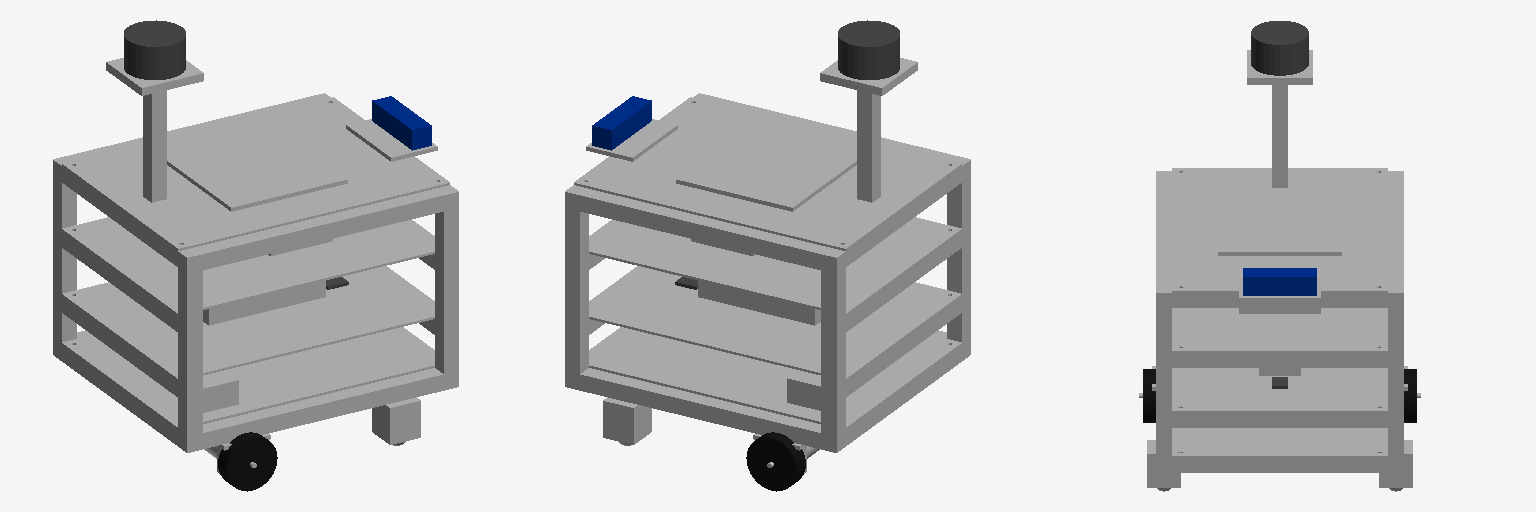
--- What the picture shows (computed from the rendered views, not written in the file) ---
The picture shows the robot from 3 angles, left to right: view 1: azimuth 30°, elevation 25°; view 2: azimuth 150°, elevation 25°; view 3: azimuth 270°, elevation 25°; orthographic projection.
Robot: my_mobile_robot — 7 links, 6 joints (2 continuous, 4 fixed); root link base_footprint; default pose: every joint at zero.
Links seen in each view (by area): view 1: base_link, lidar_link, right_wheel, camera_link; view 2: base_link, lidar_link, left_wheel, camera_link; view 3: base_link, lidar_link, camera_link, left_wheel, right_wheel.
Link boxes in pixels (x1,y1,x2,y2): base_link: (53,58,458,473); lidar_link: (124,20,185,79); right_wheel: (218,432,277,491); camera_link: (372,96,431,150); base_link: (565,58,970,473); lidar_link: (838,20,899,79); left_wheel: (746,432,805,491); camera_link: (592,96,651,150); base_link: (1139,50,1420,491); lidar_link: (1251,21,1308,75); camera_link: (1243,268,1316,295); left_wheel: (1404,369,1416,422); right_wheel: (1143,369,1155,422).
Bounding box of the posed robot: 0.38 × 0.34 × 0.5025 m (x, y, z).
Meshes: 1 distinct files referenced, 1 mesh visuals loaded (1 binary STL).

The robot description file, URDF, robot "my_mobile_robot":
<?xml version="1.0"?>
<!--
  좌표계 규약:
    X+ = 전방 (Forward)
    Y+ = 왼쪽 (Left) 
    Z+ = 위쪽 (Up)
  
    원점: 프레임 하판 바닥 중앙 (지면에서 57.5mm 위)
-->

<robot name="my_mobile_robot">
  <!-- ===== MATERIALS (색상 정의) ================= -->
  <!--
    URDF에서 색상은 <material> 태그로 정의 → rgba = Red, Green, Blue, Alpha 
  -->
  
  <!-- 알루미늄 프로파일 색상 -->
  <material name="silver">
    <color rgba="0.75 0.75 0.75 1.0"/>
  </material>
  
  <!-- 전자부품, 센서 색상 -->
  <material name="dark_grey">
    <color rgba="0.3 0.3 0.3 1.0"/>
  </material>
  
  <!-- 바퀴, 타이어 색상 -->
  <material name="black">
    <color rgba="0.1 0.1 0.1 1.0"/>
  </material>
  
  <!-- RealSense 카메라 색상 -->
  <material name="blue">
    <color rgba="0.0 0.2 0.6 1.0"/>
  </material>



  <!-- ===== LINK 1: base_footprint =============== -->
  <!--
    base_footprint: 가상의 Link (물리적 실체 없음!)
      위치: 지면 위, 로봇 중심 바로 아래
        → Nav2는 로봇의 "발자국"을 기준으로 경로를 계획 → 지면과 같은 높이에 있어야 장애물 회피가 정확
        → base_link는 로봇 본체 중심이라 지면보다 위에 있음 → 그래서 지면 높이에 가상 Link를 하나 만들어 둠
  -->
  <link name="base_footprint">
    <!--
      가상 Link이므로 visual, collision, inertial 없음 → 빈 Link는 URDF에서 합법적 → RViz에서는 TF 프레임(축)만 표시
    -->
  </link>



  <!-- ===== JOINT 1: base_joint ================== -->
  <!--
    base_footprint → base_link 연결
      Type: fixed (고정) → 본체는 발자국에 대해 움직이지 않음
    
    Origin:
      → base_footprint에서 base_link까지의 변환
      → Z = +0.0575m (57.5mm = 지상고)
      → 지면(footprint) → 프레임 하판 바닥(base_link)
    
    xyz 계산:
      바퀴 반지름: 32.5mm
      바퀴 중심 Z: 0mm (Fusion 기준)
      지면 → 바퀴 중심: 32.5mm
      바퀴 중심 → 하판 바닥: 25mm
        합계: 32.5 + 25 = 57.5mm = 0.0575m
        
    ⚠️ 이 값은 바퀴+마운트 설계에 따라 달라짐 → Day 26에서 설계한 값을 사용
  -->
  <joint name="base_joint" type="fixed">
    <parent link="base_footprint"/>
    <child link="base_link"/>
    <origin xyz="0.0 0.0 0.0575" rpy="0.0 0.0 0.0"/>
    <!--
      xyz: X=0(전후 중앙), Y=0(좌우 중앙), Z=+0.0575(위로)
      rpy: Roll=0, Pitch=0, Yaw=0 (회전 없음)
        Roll:  X축 회전 (좌우 기울기)
        Pitch: Y축 회전 (앞뒤 기울기)
        Yaw:   Z축 회전 (방향)
    -->
  </joint>



  <!-- ===== LINK 2: base_link ==================== -->
  <!--
    base_link: 로봇의 본체! 프레임 + 모든 고정 부품을 포함
    
      이 Link 하나에 포함되는 Fusion 컴포넌트:
        프레임 (하판, 상판, 기둥 4개)
        판 4개 (Base, Lower, Upper, Top)
        레일 4개
        모터마운트 ×2, 캐스터마운트 ×2, 캐스터 ×2
        모터 본체 ×2 (바퀴만 별도!)
        BTS7960 ×2, 배터리, DC-DC, Jetson
        카메라마운트, LiDAR폴, LiDAR마운트, Arm마운트
        
      왜 다 합치나?
        → 전부 fixed (움직이지 않음)
        → Link를 분리하면 fixed Joint만 늘어남
        → 시뮬레이션 성능만 떨어짐
  -->
  <link name="base_link">
    <!--
      visual(눈에 보이는 형상) 태그: RViz나 Gazebo에서 눈에 보이는 모양
        메시(STL)를 사용 → 시뮬레이션 물리에는 영향 없음
    -->
    <visual>
      <origin xyz="0.0 0.0 0.0" rpy="0.0 0.0 0.0"/>
      <!--
        origin: Link 원점에서 메시까지의 오프셋
        우리는 Fusion 원점 = base_link 원점으로 했으므로 오프셋 = 0, 0, 0 (그대로)
      -->
      <geometry>
        <mesh filename="package://my_robot_description/meshes/base_link.stl" 
              scale="0.001 0.001 0.001"/>
        <!--  
          scale: STL이 mm 단위 → URDF는 m 단위
          0.001 = mm → m 변환!
          1mm × 0.001 = 0.001m = 1mm 
        -->
      </geometry>
      <material name="silver"/>
    </visual>
    

    <!--
      collision(충돌 판정용 형상) 태그: Gazebo가 물리 충돌을 계산할 때 사용하는 형상
        visual STL: 삼각형 수천~수만 개 → 충돌 계산에 쓰면 느림
        collision: 간단한 기하(박스, 원기둥)로 근사 → 빠름
        
      박스 크기:
        X: 0.350m (350mm, 프레임 X방향)
        Y: 0.300m (300mm, 프레임 Y방향)
        Z: 0.240m (240mm, 프레임 높이)
    -->
    <collision>
      <origin xyz="0.0 0.0 0.12" rpy="0.0 0.0 0.0"/>
      <!--
        Z = 0.12m (120mm)
          → 박스 중심이 프레임 높이의 절반 → 하판 Z=0 ~ 상판 Z=240 → 중심 Z=120mm
      -->
      <geometry>
        <box size="0.350 0.300 0.240"/>
        <!--
          size: X길이, Y길이, Z길이 (미터!)
          중심점에서 ±절반씩 확장됨
        -->
      </geometry>
    </collision>
    

    <!--
      inertial(질량 + 관성) 태그: Gazebo 물리 시뮬레이션의 핵심
        이게 없으면 로봇이 시뮬레이션에서 사라지거나 비정상적으로 움직임
        
      구성:
        mass: 질량 (kg)
        origin: 무게중심(CoM) 위치
        inertia: 관성 모멘트 텐서 (6개 값)
        
      관성 모멘트 계산 — 박스 근사: 박스 질량 m, 크기 x, y, z에 대해:
        Ixx = (1/12) × m × (y² + z²)
        Iyy = (1/12) × m × (x² + z²)
        Izz = (1/12) × m × (x² + y²)
        
      Phase 1 base_link 질량:
        전체 5.2kg - 바퀴 0.16kg - 센서(별도Link) 0.252kg ≈ 4.79 kg
        박스 크기: 0.35 × 0.30 × 0.24 (m)
    
        Ixx = (1/12) × 4.79 × (0.30² + 0.24²)
            = (1/12) × 4.79 × (0.09 + 0.0576)
            = 0.3993 × 0.1476
            = 0.0589 kg·m²
            
        Iyy = (1/12) × 4.79 × (0.35² + 0.24²)
            = 0.3993 × (0.1225 + 0.0576)
            = 0.3993 × 0.1801
            = 0.0719 kg·m²
            
        Izz = (1/12) × 4.79 × (0.35² + 0.30²)
            = 0.3993 × (0.1225 + 0.09)
            = 0.3993 × 0.2125
            = 0.0848 kg·m²
    -->
    <inertial>
      <origin xyz="-0.017 0.0 0.106" rpy="0.0 0.0 0.0"/>
      <!--
        CoM 위치: X=-17mm, Y=0, Z=106mm
      -->
      <mass value="4.79"/>
      <inertia ixx="0.0589" ixy="0.0" ixz="0.0"
               iyy="0.0719" iyz="0.0"
               izz="0.0848"/>
      <!--
        비대각 성분 (ixy, ixz, iyz): 좌우 대칭이므로 대부분 0에 가까움 (간략 모델에서는 0으로 설정해도 무방)
      -->
    </inertial>
  </link>



  <!-- ===== LINK 3 + JOINT 2: left_wheel ========= -->
  <!--
    왼쪽 바퀴:
      형상: 원기둥 (직경 65mm, 폭 20mm)
      위치: X=-100mm, Y=+155mm, Z=-25mm (Fusion 기준)
      회전축: Y축 (좌우 방향)
      
    Joint type: continuous
      → 무한 회전 가능 (제한 없음)
      
    축(axis):
      바퀴가 Y축을 중심으로 회전
      → axis = "0 1 0" (Y방향)
  -->
  <joint name="left_wheel_joint" type="continuous">
    <parent link="base_link"/>
    <child link="left_wheel"/>
    <origin xyz="-0.100 0.155 -0.025" rpy="0.0 0.0 0.0"/>
    <!--
      base_link 원점에서 바퀴 중심까지:
        X: -0.100 (100mm 후방 = 모터 위치)
        Y: +0.155 (155mm 왼쪽 = 프레임 외부)
        Z: -0.025 (25mm 아래 = 하판 아래)
    -->
    <axis xyz="0 1 0"/>
  </joint>
  
  <link name="left_wheel">
    <visual>
      <origin xyz="0.0 0.0 0.0" rpy="1.5708 0.0 0.0"/>
      <!--
        rpy: Roll = π/2 (90°)
      
        URDF의 cylinder 기본 방향: Z축
        바퀴 회전축: Y축 → X축으로 90° 회전하면 Z→Y로 변환
        
        1.5708 = π/2 ≈ 1.5708 rad
      -->
      <geometry>
        <cylinder radius="0.0325" length="0.020"/>
        <!--
          radius: 32.5mm = 0.0325m (바퀴 반지름)
          length: 20mm = 0.020m (바퀴 폭)
        -->
      </geometry>
      <material name="black"/>
    </visual>
    
    <collision>
      <origin xyz="0.0 0.0 0.0" rpy="1.5708 0.0 0.0"/>
      <geometry>
        <cylinder radius="0.0325" length="0.020"/>
        <!--
          바퀴는 충돌이 중요 (지면과 접촉) → visual과 동일한 형상 사용
        -->
      </geometry>
    </collision>
    
    <inertial>
      <origin xyz="0.0 0.0 0.0" rpy="0.0 0.0 0.0"/>
      <mass value="0.080"/>
      <!--
        바퀴 질량: 80g = 0.080kg
        
        원기둥 관성 모멘트:
          Ixx = Iyy = (1/12) × m × (3r² + h²)
          Izz = (1/2) × m × r²
        
          r = 0.0325m, h = 0.020m, m = 0.080kg
        
          Ixx = (1/12) × 0.08 × (3×0.0325² + 0.02²)
              = 0.00667 × (0.00317 + 0.0004)
              = 0.00667 × 0.00357
              = 0.0000238 kg·m²
              
          Izz = (1/2) × 0.08 × 0.0325²
              = 0.04 × 0.001056
              = 0.0000423 kg·m²
        -->
      <inertia ixx="0.0000238" ixy="0.0" ixz="0.0"
               iyy="0.0000238" iyz="0.0"
               izz="0.0000423"/>
    </inertial>
  </link>



  <!-- ===== LINK 4 + JOINT 3: right_wheel ======== -->
  <joint name="right_wheel_joint" type="continuous">
    <parent link="base_link"/>
    <child link="right_wheel"/>
    <origin xyz="-0.100 -0.155 -0.025" rpy="0.0 0.0 0.0"/>
    <!--
      Y: -0.155 (오른쪽) 나머지는 left_wheel과 동일
    -->
    <axis xyz="0 1 0"/>
  </joint>
  
  <link name="right_wheel">
    <visual>
      <origin xyz="0.0 0.0 0.0" rpy="1.5708 0.0 0.0"/>
      <geometry>
        <cylinder radius="0.0325" length="0.020"/>
      </geometry>
      <material name="black"/>
    </visual>
    
    <collision>
      <origin xyz="0.0 0.0 0.0" rpy="1.5708 0.0 0.0"/>
      <geometry>
        <cylinder radius="0.0325" length="0.020"/>
      </geometry>
    </collision>
    
    <inertial>
      <origin xyz="0.0 0.0 0.0" rpy="0.0 0.0 0.0"/>
      <mass value="0.080"/>
      <inertia ixx="0.0000238" ixy="0.0" ixz="0.0"
               iyy="0.0000238" iyz="0.0"
               izz="0.0000423"/>
    </inertial>
  </link>



  <!-- ===== LINK 5 + JOINT 4: lidar_link ========= -->
  <!--
    RPLiDAR A1:
      Fusion 위치: X=-130, Y=0, Z=403 (바닥면)
      형상: 원기둥 Ø70×41mm
      
    왜 별도 Link?
      → rplidar_ros 노드가 sensor_msgs/LaserScan을 lidar_link 좌표계 기준으로 발행
      → SLAM, Nav2가 이 TF를 사용해서 LiDAR 데이터를 base_link로 변환
        
    LiDAR 좌표계 규약:
      X+ = 전방 (0°)
      Y+ = 왼쪽 (90°)
      레이저가 XY 평면에서 스캔
  -->
  <joint name="lidar_joint" type="fixed">
    <parent link="base_link"/>
    <child link="lidar_link"/>
    <origin xyz="-0.130 0.0 0.424" rpy="0.0 0.0 0.0"/>
    <!--
      X: -0.130 (후방 130mm)
      Y: 0.0 (중앙)
      Z: 0.424 (403mm + 41mm/2 = 423.5mm ≈ 424mm)
        → LiDAR 센서의 레이저 발사 높이 = 중심
      
      ⚠️ Z를 LiDAR의 바닥이 아닌 중심으로 잡는 이유: LaserScan 데이터는 레이저 높이에서 발생 → 센서 중심 = 레이저 높이
    -->
  </joint>
  
  <link name="lidar_link">
    <visual>
      <origin xyz="0.0 0.0 0.0" rpy="0.0 0.0 0.0"/>
      <geometry>
        <cylinder radius="0.035" length="0.041"/>
        <!--
          radius: 35mm, length: 41mm
          시뮬에서는 간단한 원기둥으로 표현
            실제 메시를 쓰고 싶으면:
            <mesh filename="package://my_robot_description/meshes/lidar.stl"
                  scale="0.001 0.001 0.001"/>
        -->
      </geometry>
      <material name="dark_grey"/>
    </visual>
    
    <collision>
      <origin xyz="0.0 0.0 0.0" rpy="0.0 0.0 0.0"/>
      <geometry>
        <cylinder radius="0.035" length="0.041"/>
      </geometry>
    </collision>
    
    <inertial>
      <origin xyz="0.0 0.0 0.0" rpy="0.0 0.0 0.0"/>
      <mass value="0.170"/>
      <!--
        원기둥 관성:
          r=0.035, h=0.041, m=0.170
        
          Ixx = (1/12)×0.17×(3×0.035²+0.041²) = 0.0000527
          Izz = (1/2)×0.17×0.035² = 0.000104
      -->
      <inertia ixx="0.0000527" ixy="0.0" ixz="0.0"
               iyy="0.0000527" iyz="0.0"
               izz="0.000104"/>
    </inertial>
  </link>

  

  <!-- ===== LINK 6 + JOINT 5: camera_link ======== -->
  <!--
    Intel RealSense D435:
      Fusion 위치: X=187.5, Y=0, Z=248 (바닥면)
      형상: 25×90×25mm
      
    카메라 좌표계 규약 (ROS):
      Z+ = 전방 (카메라가 바라보는 방향)
      X+ = 오른쪽
      Y+ = 아래쪽
      
      ⚠️ 로봇 좌표계와 다름
        → realsense2_camera 노드가 자동으로 변환해줌
        → 여기서는 카메라 마운트 위치만 정확히 지정
      
    우리 카메라는 X+ 방향(전방)을 바라봄 → 카메라 optical frame은 별도로 생성됨 (드라이버가 자동)
  -->
  <joint name="camera_joint" type="fixed">
    <parent link="base_link"/>
    <child link="camera_link"/>
    <origin xyz="0.1875 0.0 0.2605" rpy="0.0 0.0 0.0"/>
    <!--
      X: 0.1875 (187.5mm 전방)
      Y: 0.0 (중앙)
      Z: 0.2605 (248mm + 25mm/2 = 260.5mm = 카메라 중심)
    -->
  </joint>
  
  <link name="camera_link">
    <visual>
      <origin xyz="0.0 0.0 0.0" rpy="0.0 0.0 0.0"/>
      <geometry>
        <box size="0.025 0.090 0.025"/>
        <!--
          X=25mm(깊이), Y=90mm(폭), Z=25mm(높이)
        -->
      </geometry>
      <material name="blue"/>
    </visual>
    
    <collision>
      <origin xyz="0.0 0.0 0.0" rpy="0.0 0.0 0.0"/>
      <geometry>
        <box size="0.025 0.090 0.025"/>
      </geometry>
    </collision>
    
    <inertial>
      <origin xyz="0.0 0.0 0.0" rpy="0.0 0.0 0.0"/>
      <mass value="0.072"/>
      <!--
        박스 관성:
          m=0.072, x=0.025, y=0.090, z=0.025

          Ixx = (1/12)×0.072×(0.09²+0.025²) = 0.0000524
          Iyy = (1/12)×0.072×(0.025²+0.025²) = 0.0000075
          Izz = (1/12)×0.072×(0.025²+0.09²) = 0.0000524
      -->
      <inertia ixx="0.0000524" ixy="0.0" ixz="0.0"
               iyy="0.0000075" iyz="0.0"
               izz="0.0000524"/>
    </inertial>
  </link>



  <!-- ===== LINK 7 + JOINT 6: imu_link =========== -->  
  <!--
    BNO055 IMU:
      Fusion 위치: X=100, Y=0, Z=83 (바닥면)
      형상: 27×20×4mm (매우 작음)
      
    IMU 좌표계:
      관성 측정 → base_link와 정렬되어야 함
      X+ = 전방, Y+ = 왼쪽, Z+ = 위
        → 마운트할 때 PCB의 축 방향 표시를 확인
      
    robot_localization (EKF) 패키지가 imu_link의 TF를 사용해서 데이터를 변환함
  -->
  <joint name="imu_joint" type="fixed">
    <parent link="base_link"/>
    <child link="imu_link"/>
    <origin xyz="0.100 0.0 0.085" rpy="0.0 0.0 0.0"/>
    <!--
      X: 0.100 (전방 100mm)
      Y: 0.0 (중앙)
      Z: 0.085 (83mm + 4mm/2 = 85mm = IMU 중심)
    -->
  </joint>
  
  <link name="imu_link">
    <visual>
      <origin xyz="0.0 0.0 0.0" rpy="0.0 0.0 0.0"/>
      <geometry>
        <box size="0.027 0.020 0.004"/>
      </geometry>
      <material name="dark_grey"/>
    </visual>
    
    <collision>
      <origin xyz="0.0 0.0 0.0" rpy="0.0 0.0 0.0"/>
      <geometry>
        <box size="0.027 0.020 0.004"/>
      </geometry>
    </collision>
    
    <inertial>
      <origin xyz="0.0 0.0 0.0" rpy="0.0 0.0 0.0"/>
      <mass value="0.010"/>
      <inertia ixx="0.0000001" ixy="0.0" ixz="0.0"
               iyy="0.0000001" iyz="0.0"
               izz="0.0000001"/>
      <!--
        IMU는 10g으로 매우 가벼움
          관성 모멘트가 극도로 작아서 최소값(1e-7)으로 설정 → 0으로 하면 Gazebo가 에러 발생
      -->
    </inertial>
  </link>






  <!-- ===== GAZEBO: 바퀴 마찰 ==================== -->  
  <!--
    마찰이 너무 작으면:
      → 바퀴가 헛돌 (미끄러짐)
      → 오도메트리가 틀림
      → 직선으로 안 감
      
    마찰이 너무 크면:
      → 회전할 때 바퀴가 안 미끄러짐
      → 차동 구동의 스키드 턴이 안 됨
      → 회전 반경이 비현실적
      
    적절한 값: mu1=1.0, mu2=1.0 → 고무 바퀴 + 실내 바닥 기준
  -->
  <gazebo reference="left_wheel">
    <material>Gazebo/Black</material>
    <!--
      Gazebo 전용 재질 (색상) - URDF의 <material>과 별개 (Gazebo는 자체 재질 시스템 사용)
    -->
    <mu1>1.0</mu1>
    <!--
      mu1: 쿨롱 마찰 계수 (Slip direction 1)
        → 바퀴 굴러가는 방향의 마찰 → 1.0 = 고무-콘크리트 수준
    -->
    <mu2>1.0</mu2>
    <!--
      mu2: 쿨롱 마찰 계수 (Slip direction 2)
        → 바퀴 옆방향 마찰 (미끄러짐 방지) → 1.0이면 옆으로 안 밀림
    -->
    <kp>1000000.0</kp>
    <!--
      kp: 접촉 강성 (Contact stiffness)
        → 바퀴가 지면에 닿았을 때 "얼마나 단단한가"
          → 너무 작으면 바퀴가 지면을 뚫고 들어감
          → 너무 크면 시뮬 불안정 (진동)
        → 1e6이 일반적인 안전 값
    -->
    <kd>10.0</kd>
    <!--
      kd: 접촉 감쇠 (Contact damping)
        → 접촉 시 에너지 흡수량 → 바운스(탄성 충돌) 방지
        → 10.0이 안정적인 시작 값
    -->
  </gazebo>
  
  <gazebo reference="right_wheel">
    <material>Gazebo/Black</material>
    <mu1>1.0</mu1>
    <mu2>1.0</mu2>
    <kp>1000000.0</kp>
    <kd>10.0</kd>
  </gazebo>



  <!-- ===== GAZEBO: base_link 설정 =============== -->
  <!--
    base_link에는 캐스터가 포함되어 있음
    캐스터는 실제로는 자유 회전하지만 URDF에서는 base_link에 합쳐짐
      → Gazebo에서 캐스터 효과를 재현하려면 base_link 하단의 마찰을 낮춰야 함
      
    하지만 우리는 캐스터를 별도 Link가 아닌 base_link에 포함시켰으므로, 실제로는 diff_drive 플러그인이 캐스터 효과를 자동 처리 → 특별한 설정 불필요
  -->
  <gazebo reference="base_link">
    <material>Gazebo/Grey</material>
    <mu1>0.2</mu1>
    <mu2>0.2</mu2>
    <!--
      base_link 전체의 마찰은 낮게
        → 혹시 바닥에 닿더라도 미끄러지게
        → 바퀴만 높은 마찰, 본체는 낮은 마찰
    -->
  </gazebo>





  <!-- ===== GAZEBO: Diff Drive 플러그인 =========== -->
  <!--
    역할:
      geometry_msgs/Twist (cmd_vel)
        → 왼쪽/오른쪽 바퀴 회전 속도로 변환
        → 오도메트리(nav_msgs/Odometry) 발행
          → odom → base_footprint TF 브로드캐스트
      
    없으면?
      → cmd_vel을 보내도 바퀴가 안 돌아감
      → 오도메트리 없음 → SLAM, Nav2 불가
  -->
  <gazebo>
    <plugin name="diff_drive" filename="libgazebo_ros_diff_drive.so">
      <!--
        plugin name: ROS 2에서 이 플러그인을 식별하는 이름
        filename: Gazebo가 로드할 공유 라이브러리 파일
        
        ⚠️ 이것은 Gazebo Classic (Gazebo 11) 용
           Gazebo Fortress/Garden에서는 다른 플러그인 사용 → Day 32에서 정확한 버전 다룸
      -->
      
      <!-- === 바퀴 Joint 이름 === -->
      <left_joint>left_wheel_joint</left_joint>
      <right_joint>right_wheel_joint</right_joint>
      <!--
        어떤 Joint를 돌릴지 지정 (URDF에서 정의한 Joint 이름과 정확히 일치)
      -->
      
      <!-- === 바퀴 기하 === -->
      <wheel_separation>0.310</wheel_separation>
      <!--
        좌우 바퀴 사이 거리 (m)
          Y=+0.155 ~ Y=-0.155 = 0.310m
        
        이 값이 틀리면?
          → 회전 반경이 틀림
          → 제자리 회전 시 오도메트리 오차 큼
          → ⭐ 가장 중요한 파라미터!
      -->
      
      <wheel_diameter>0.065</wheel_diameter>
      <!--
        바퀴 직경 (m) = 65mm
        
        이 값이 틀리면?
          → 직선 주행 거리가 틀림
          → 10m 가라고 했는데 8m만 감
      -->
      
      <!-- === 제어 파라미터 === -->
      <max_wheel_torque>5.0</max_wheel_torque>
      <!--
        바퀴에 걸 수 있는 최대 토크 (N·m)
          JGB37-520 스톨 토크: ~0.5-0.8 N·m - 여유 있게 5.0으로 설정 (시뮬에서는 넉넉하게)
      -->
      
      <max_wheel_acceleration>2.0</max_wheel_acceleration>
      <!--
        바퀴 각가속도 제한 (rad/s²)
          급가속 방지 → 현실적인 움직임
      -->
      
      <!-- === ROS 2 토픽 === -->
      <command_topic>cmd_vel</command_topic>
      <!--
        입력: geometry_msgs/Twist
          teleop이나 Nav2에서 이 토픽으로 속도 명령 발행
      -->
      
      <odometry_topic>odom</odometry_topic>
      <!--
        출력: nav_msgs/Odometry
          로봇의 현재 위치/속도 추정값
      -->
      
      <odometry_frame>odom</odometry_frame>
      <!--
        오도메트리 TF의 부모 프레임 이름
          표준: "odom"
      -->
      
      <robot_base_frame>base_footprint</robot_base_frame>
      <!--
        오도메트리 TF의 자식 프레임 이름
          표준: "base_footprint" (또는 "base_link")
        
        결과 TF: odom → base_footprint
          → 로봇이 얼마나 이동했는지 추적!
      -->
      
      <!-- === TF 발행 === -->
      <publish_odom>true</publish_odom>
      <publish_odom_tf>true</publish_odom_tf>
      <!--
        true: odom → base_footprint TF를 이 플러그인이 발행
        
        ⚠️ 나중에 robot_localization (EKF)을 사용하면 여기서 TF 발행을 끄고 EKF가 발행하게 함!
          → publish_odom_tf = false
      -->
      
      <publish_wheel_tf>false</publish_wheel_tf>
      <!--
        false: 바퀴 TF는 robot_state_publisher가 발행
          → 중복 방지!
      -->
      
      <!-- === 갱신 주기 === -->
      <update_rate>50.0</update_rate>
      <!--
        50 Hz = 20ms마다 오도메트리 갱신
          실제 로봇의 엔코더 갱신 주기와 맞춤
      -->
      
    </plugin>
  </gazebo>





  <!-- ===== GAZEBO: LiDAR 센서 =================== -->
  <!--
    RPLiDAR A1 시뮬레이션: 360° 2D 레이저 스캔
      sensor_msgs/LaserScan 발행
      
    시뮬에서 LiDAR가 있으면:
      → SLAM이 동작! (가상 맵 생성)
      → Nav2 장애물 감지!
      → 실제 LiDAR 없이 알고리즘 테스트 가능
  -->
  <gazebo reference="lidar_link">
    <sensor name="lidar" type="ray">
      <!--
        type="ray": 레이저 스캔 센서
          Gazebo가 가상 레이저 빔을 쏘고 장애물까지의 거리를 계산
      -->
      
      <always_on>true</always_on>
      <visualize>true</visualize>
      <!--
        visualize=true: Gazebo에서 레이저 빔이 눈에 보임
      -->
      
      <update_rate>5.5</update_rate>
      <!--
        RPLiDAR A1 스캔 주기: ~5.5 Hz
          1초에 5.5번 완전 회전 - 실제 스펙과 일치시킴
      -->
      
      <ray>
        <scan>
          <horizontal>
            <samples>360</samples>
            <!--
              360개 레이저 빔 = 1° 간격
                RPLiDAR A1 실제: ~8000 samples/s
                5.5Hz에서 ~1450 samples/회전
                시뮬에서는 360으로 간략화 (성능)
            -->
            <resolution>1.0</resolution>
            <!--
              resolution: sample 간 각도 배율
                1.0 = 360 samples가 360°에 균등 분포
            -->
            <min_angle>-3.14159</min_angle>
            <max_angle>3.14159</max_angle>
            <!--
              -π ~ +π = 360° 풀스캔
              0° = X+ 방향 (전방)
              +90° = Y+ 방향 (왼쪽)
            -->
          </horizontal>
        </scan>
        
        <range>
          <min>0.15</min>
          <!--
            최소 측정 거리: 150mm
              이보다 가까운 장애물은 감지 불가
              RPLiDAR A1 스펙: 0.15m
          -->
          <max>12.0</max>
          <!--
            최대 측정 거리: 12m
            RPLiDAR A1 스펙: 12m
          -->
          <resolution>0.01</resolution>
          <!--
            거리 분해능: 1cm
            "10cm와 11cm를 구분할 수 있는가?"
          -->
        </range>
        
        <noise>
          <type>gaussian</type>
          <mean>0.0</mean>
          <stddev>0.005</stddev>
          <!--
            가우시안 노이즈 추가!
            평균 0, 표준편차 5mm
            
            왜 노이즈를 일부러 넣나?
              → 실제 센서는 항상 노이즈가 있음
              → 노이즈 없는 완벽한 데이터로 알고리즘을 만들면 실제 환경에서 실패!
              → "Sim-to-Real Gap" 줄이기 위해 필수
          -->
        </noise>
      </ray>
      
      <plugin name="lidar_controller" filename="libgazebo_ros_ray_sensor.so">
        <ros>
          <remapping>~/out:=scan</remapping>
          <!--
            출력 토픽: /scan
              SLAM, Nav2가 이 토픽을 구독!
          -->
        </ros>
        <output_type>sensor_msgs/LaserScan</output_type>
        <frame_name>lidar_link</frame_name>
        <!--
          데이터의 좌표계 = lidar_link
            → TF를 통해 base_link, odom으로 변환됨
        -->
      </plugin>
    </sensor>
  </gazebo>





  <!-- ===== GAZEBO: 카메라 센서 =================== -->
  <!--
    Intel RealSense D435 시뮬레이션: RGB 이미지 + Depth 이미지
      
    ⚠️ 실제 RealSense는 realsense_gazebo_plugin 사용 권장
       여기서는 기본 depth camera로 간략화
  -->
  <gazebo reference="camera_link">
    <sensor name="depth_camera" type="depth">
      <always_on>true</always_on>
      <visualize>false</visualize>
      <!--
        카메라 시각화는 성능 저하가 심해서 false
      -->
      
      <update_rate>30.0</update_rate>
      <!--
        30 FPS: RealSense D435 기본 프레임레이트
      -->
      
      <camera>
        <horizontal_fov>1.20428</horizontal_fov>
        <!--
          수평 화각: 69° = 1.204 rad
            RealSense D435 depth 스펙: 87° (RGB는 69°)
            depth 기준으로 설정
        -->
        
        <image>
          <width>640</width>
          <height>480</height>
          <!--
            해상도: VGA (640×480)
              시뮬에서는 성능을 위해 낮은 해상도 사용
              실제: 1280×720까지 가능
          -->
          <format>B8G8R8</format>
          <!--
            BGR 8bit 컬러 (OpenCV 기본 포맷)
          -->
        </image>
        
        <clip>
          <near>0.1</near>
          <far>10.0</far>
          <!--
            깊이 범위: 0.1m ~ 10m
              RealSense D435 스펙과 근사
          -->
        </clip>
      </camera>
      
      <plugin name="depth_camera_controller" filename="libgazebo_ros_camera.so">
        <ros>
          <remapping>~/image_raw:=camera/color/image_raw</remapping>
          <remapping>~/depth/image_raw:=camera/depth/image_rect_raw</remapping>
          <remapping>~/camera_info:=camera/color/camera_info</remapping>
          <remapping>~/depth/camera_info:=camera/depth/camera_info</remapping>
          <!--
            토픽 이름을 RealSense 드라이버와 동일하게 → 코드를 수정 없이 시뮬↔실제 전환 가능!
          -->
        </ros>
        <frame_name>camera_link</frame_name>
      </plugin>
    </sensor>
  </gazebo>

  



  <!-- ===== GAZEBO: IMU 센서 ===================== -->
  <gazebo reference="imu_link">
    <sensor name="imu" type="imu">
      <always_on>true</always_on>
      <update_rate>100.0</update_rate>
      <!--
        100 Hz: BNO055 기본 출력 주기
          robot_localization EKF가 이 데이터를 소비
      -->
      
      <imu>
        <angular_velocity>
          <x><noise type="gaussian">
            <mean>0.0</mean>
            <stddev>0.0002</stddev>
          </noise></x>
          <y><noise type="gaussian">
            <mean>0.0</mean>
            <stddev>0.0002</stddev>
          </noise></y>
          <z><noise type="gaussian">
            <mean>0.0</mean>
            <stddev>0.0002</stddev>
          </noise></z>
          <!--
            각속도 노이즈: 0.0002 rad/s
              BNO055는 온칩 퓨전으로 노이즈가 적음
          -->
        </angular_velocity>
        
        <linear_acceleration>
          <x><noise type="gaussian">
            <mean>0.0</mean>
            <stddev>0.017</stddev>
          </noise></x>
          <y><noise type="gaussian">
            <mean>0.0</mean>
            <stddev>0.017</stddev>
          </noise></y>
          <z><noise type="gaussian">
            <mean>0.0</mean>
            <stddev>0.017</stddev>
          </noise></z>
          <!--
            가속도 노이즈: 0.017 m/s²
              중력(9.8) 대비 ~0.17% 수준
          -->
        </linear_acceleration>
      </imu>
      
      <plugin name="imu_controller" filename="libgazebo_ros_imu_sensor.so">
        <ros>
          <remapping>~/out:=imu/data</remapping>
          <!--
            출력: /imu/data (sensor_msgs/Imu)
          -->
        </ros>
        <frame_name>imu_link</frame_name>
        <initial_orientation_as_reference>false</initial_orientation_as_reference>
        <!--
          false: 월드 좌표계 기준으로 방향 출력 → EKF가 절대 방향을 사용할 수 있음
        -->
      </plugin>
    </sensor>
  </gazebo>


  

</robot>
